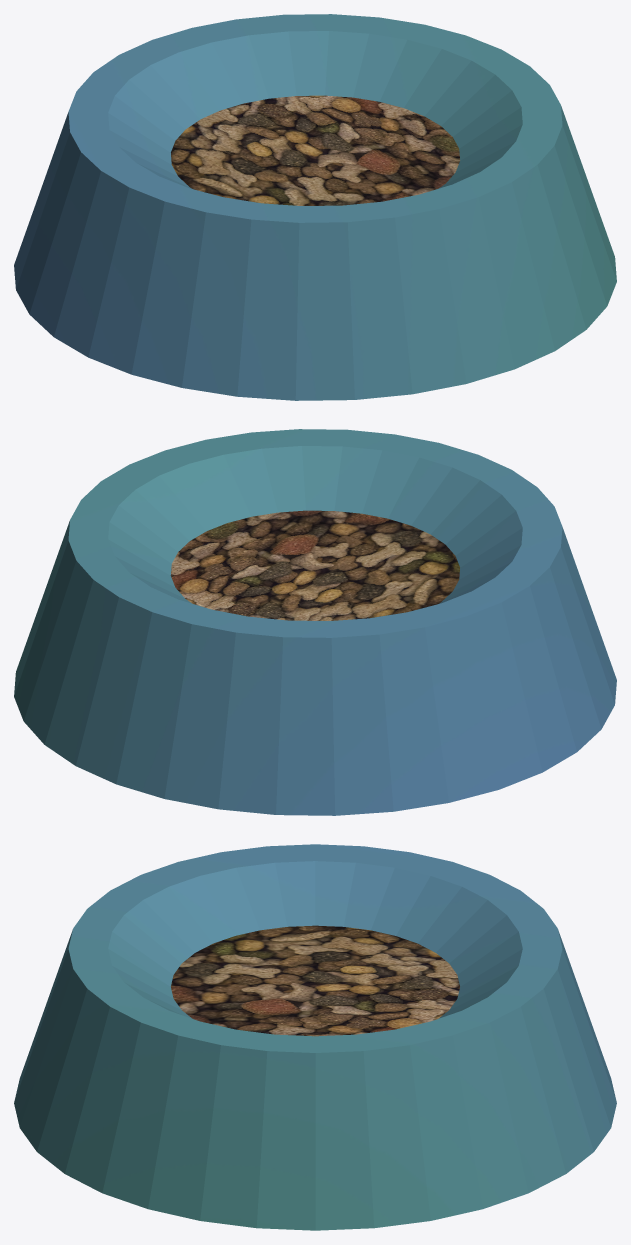
The model's file is dogFoodBowl.obj.
3 renders of one model, top to bottom at view 1: azimuth 30°, elevation 25°; view 2: azimuth 150°, elevation 25°; view 3: azimuth 270°, elevation 25°, orthographic.
Visible parts, largest first — view 1: PlatoComida; view 2: PlatoComida; view 3: PlatoComida.
Part boxes in pixels (x1=…): PlatoComida: x1=14, y1=14, x2=616, y2=400; PlatoComida: x1=14, y1=429, x2=616, y2=815; PlatoComida: x1=14, y1=844, x2=616, y2=1230.
Size of the model in its own units: 2 by 0.5658 by 2.
